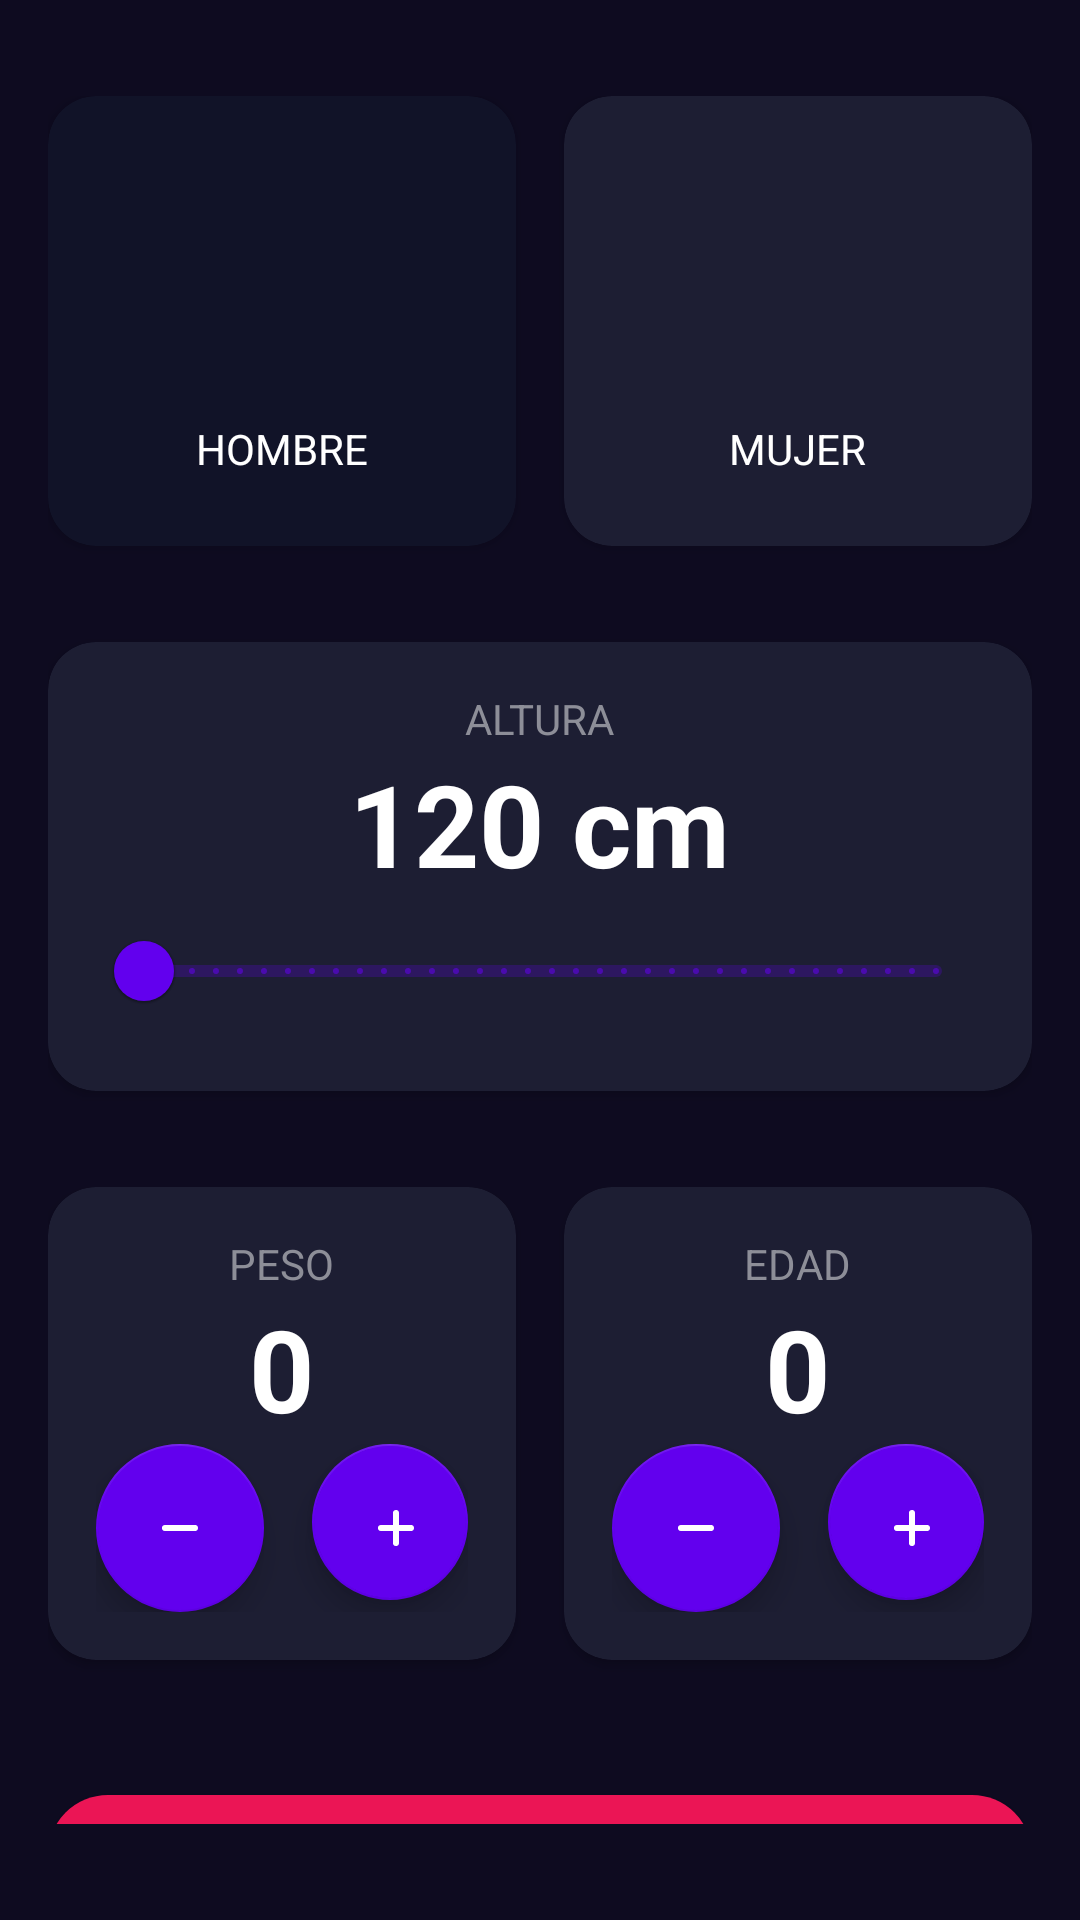

Icon bounding boxes for this 1080w x 1920h phone screenshot, format [left=x1, top=y1, right=x2, bottom=y2]:
add: [left=312, top=1444, right=468, bottom=1600], [left=828, top=1444, right=984, bottom=1600]
remove: [left=96, top=1444, right=264, bottom=1612], [left=612, top=1444, right=780, bottom=1612]
